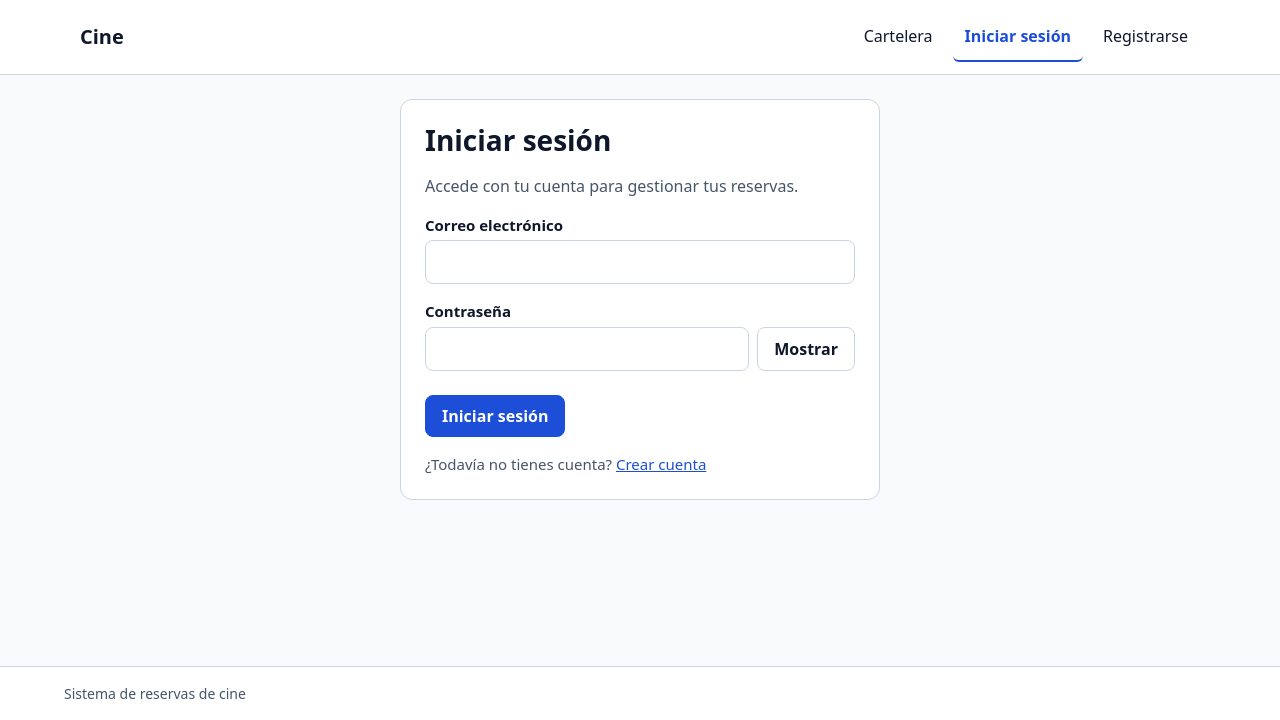
Test: Auth feature flows › redirects unauthenticated users from /reservations to /login and returns after login
Check: the heading "Iniciar sesión" is shown, box [425,121,611,159]
Click the button with aria-label "Mostrar contraseña": [806, 349] box [757,327,855,371]
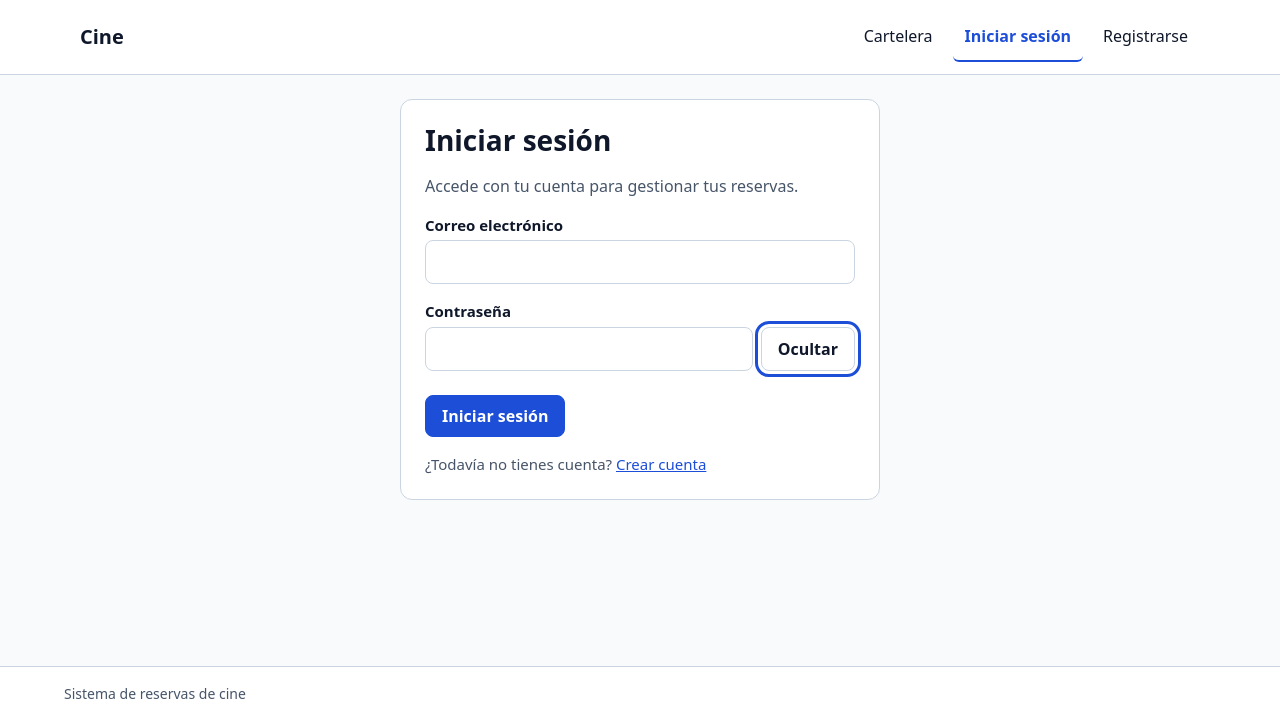
Check: the button with aria-label "Ocultar contraseña" is pressed, box [761,327,855,371]
In the field labelled "Correo electrónico": [640, 262] box [425,240,855,284], type "ana@cine.local"
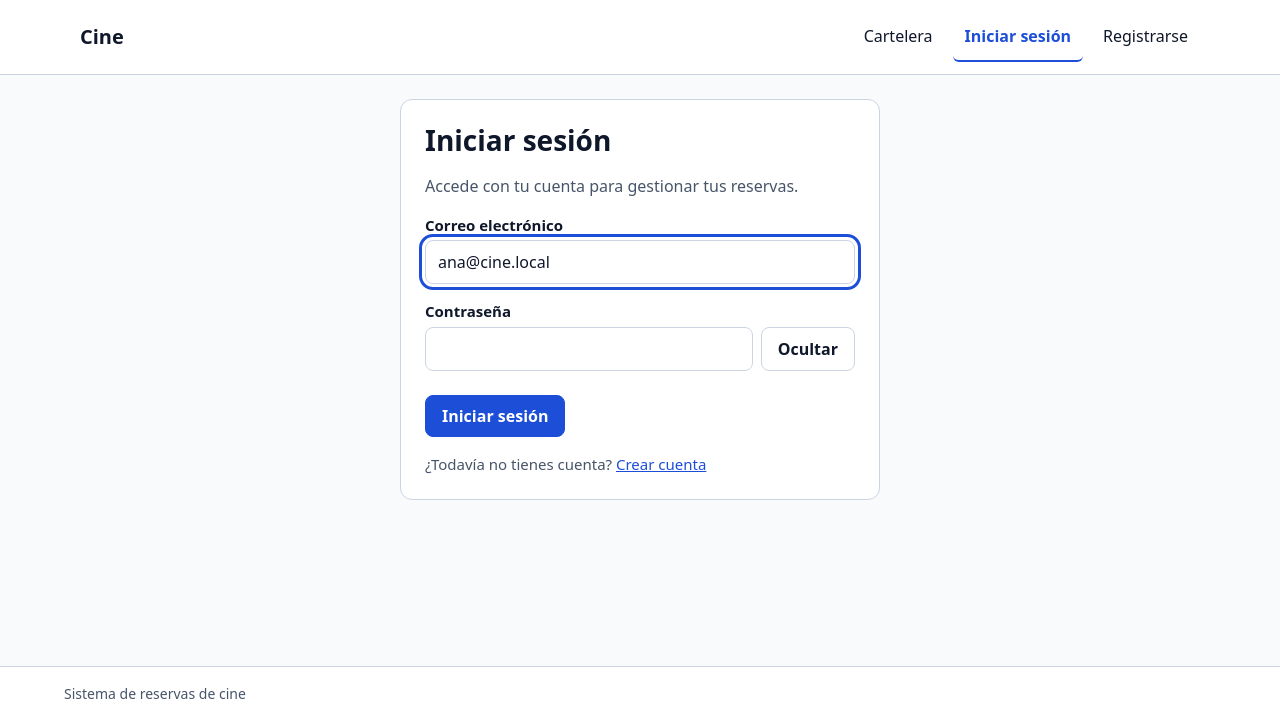
In the field labelled "Contraseña": [589, 349] box [425,327,753,371], type "User1234!"
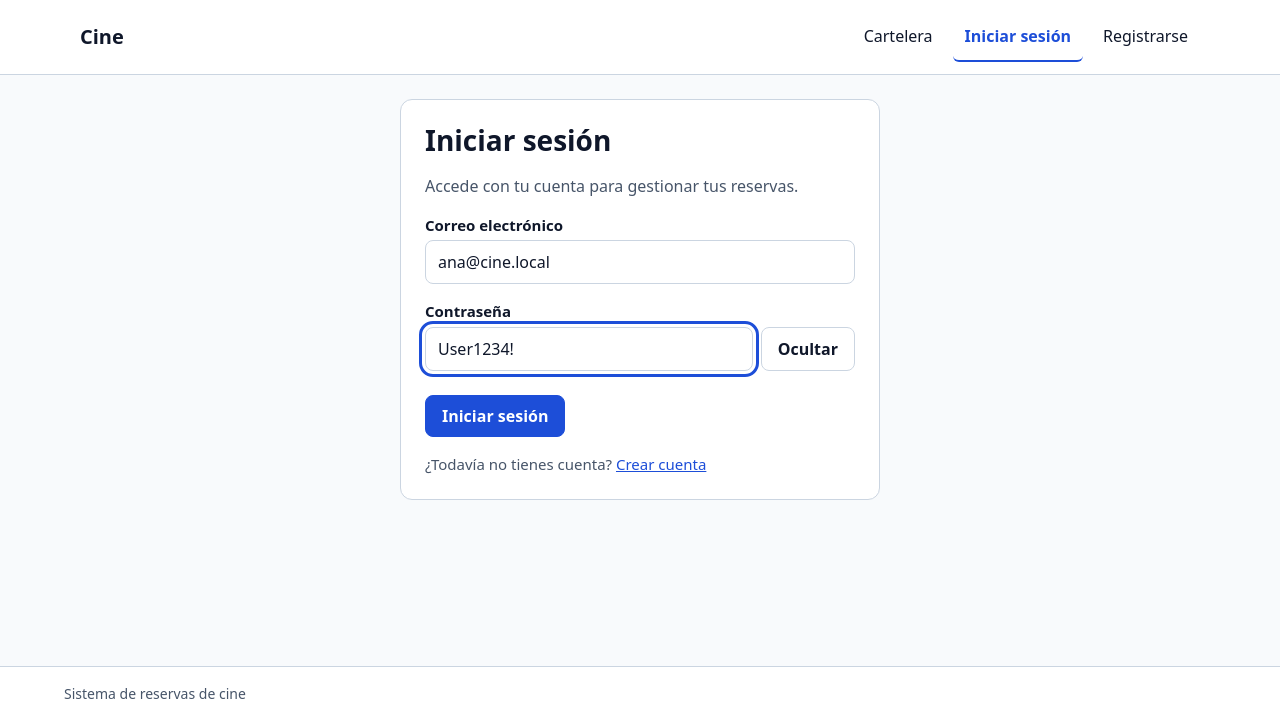
Click the button "Iniciar sesión": [495, 416] box [425,395,566,437]
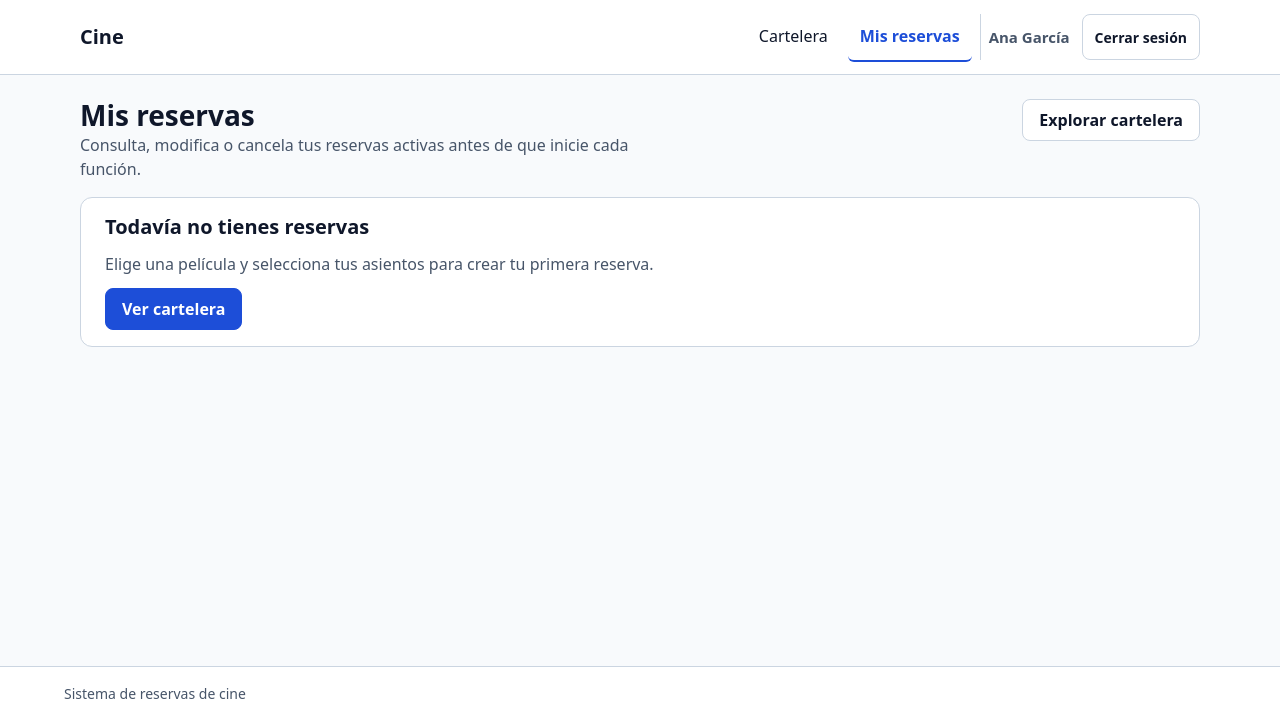
Check: the heading "Mis reservas" is shown, box [80,96,255,134]
Check: the text "Ana García" is shown, box [989,26,1070,48]
Check: the button "Cerrar sesión" is shown, box [1082,14,1200,60]
